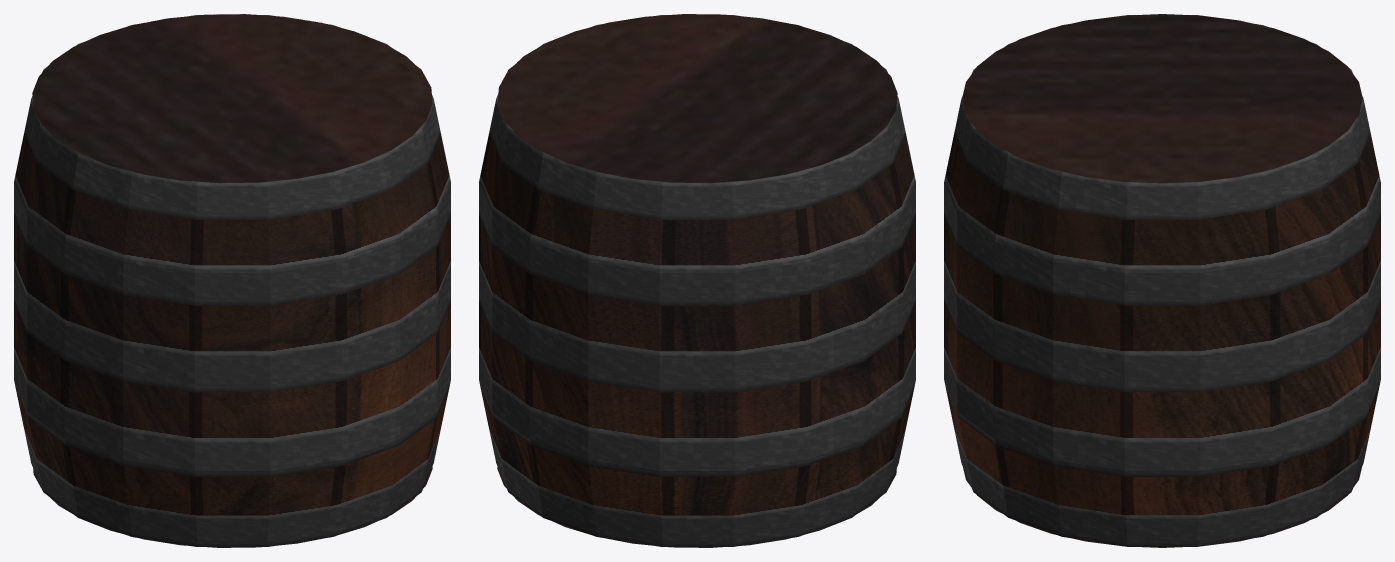
The model's file is barril.fbx.
3 renders of one model, left to right at view 1: azimuth 30°, elevation 25°; view 2: azimuth 150°, elevation 25°; view 3: azimuth 270°, elevation 25°, orthographic.
Parts seen in each view (by area): view 1: Cylinder, Circle.001; view 2: Cylinder, Circle.001; view 3: Cylinder, Circle.001.
Boxes of the visible parts, x1=… form: Cylinder: x1=14, y1=15, x2=450, y2=546; Circle.001: x1=32, y1=14, x2=432, y2=183; Cylinder: x1=479, y1=15, x2=915, y2=546; Circle.001: x1=497, y1=14, x2=897, y2=183; Cylinder: x1=944, y1=15, x2=1380, y2=546; Circle.001: x1=962, y1=14, x2=1362, y2=183.
Bounding box in the file's own units: 197 × 184 × 200.
